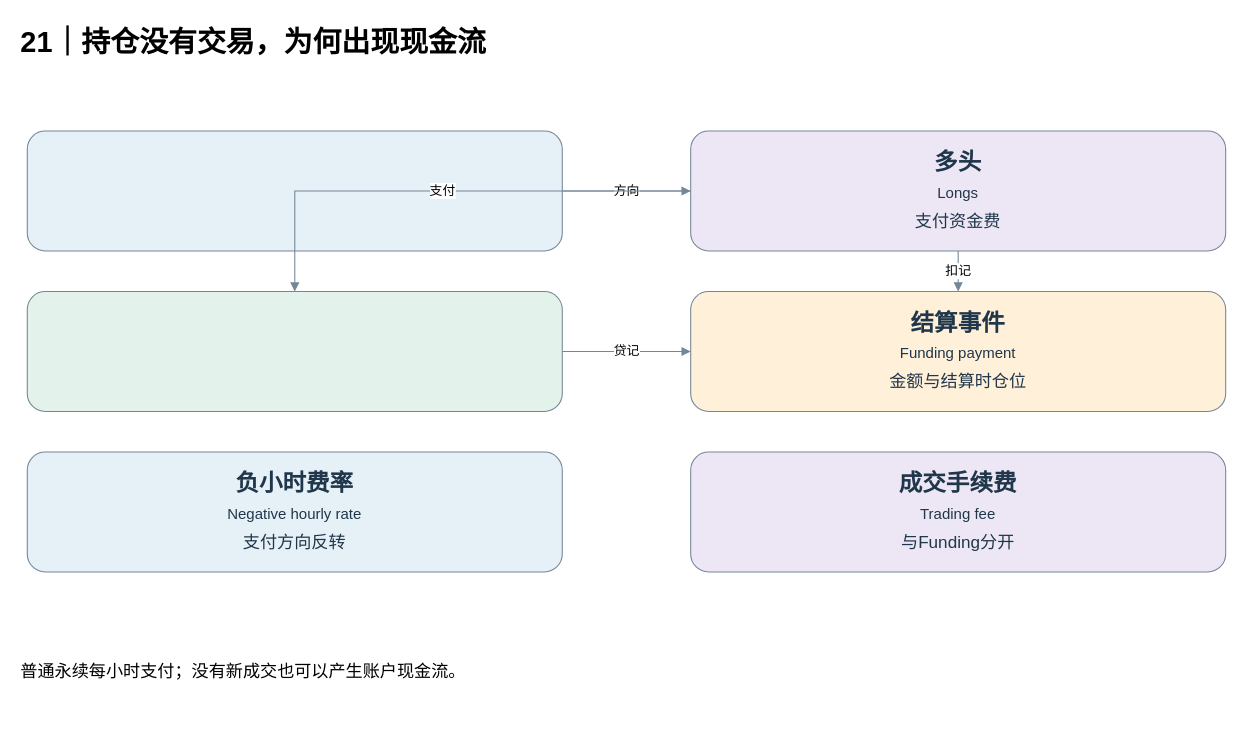
The diagram is 1252 pixels wide and 738 high, and some of its shapes have lost their labels. Here are the shapes that lost their labels. From the top down, the centre of each, then its label:
At pixel 294 190: "正小时费率 Positive hourly rate 教学方向示例".
At pixel 294 351: "空头 Shorts 收到资金费".
